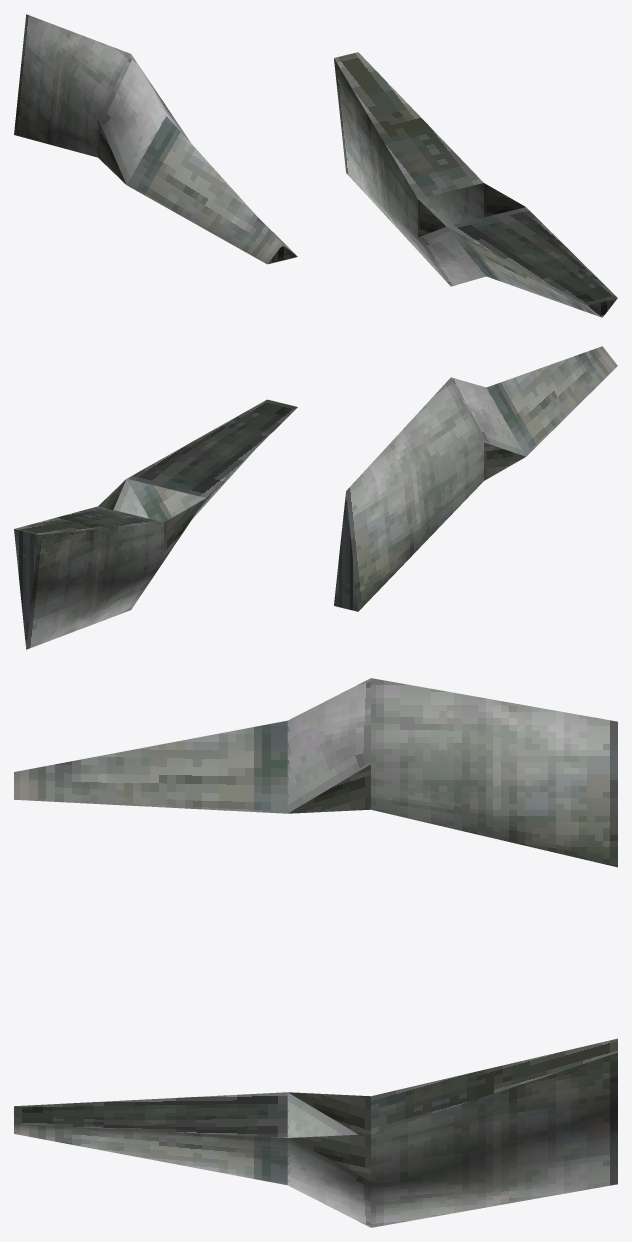
File: xwing_engine_pos_s02_l3.fbx
The picture shows the model from 3 angles, top to bottom: view 1: azimuth 30°, elevation 25°; view 2: azimuth 150°, elevation 25°; view 3: azimuth 270°, elevation 25°; orthographic projection. The views are drawn at different scales.
Visible parts, largest first — view 1: mesh_node; view 2: mesh_node; view 3: mesh_node.
Boxes of the visible parts, x1,y1,x2,y2 form: mesh_node: [14, 14, 617, 317]; mesh_node: [14, 346, 617, 649]; mesh_node: [14, 678, 617, 1227].
Size of the model in its own units: 4.34 by 3.22 by 4.82.
1 material, 1 textured.
